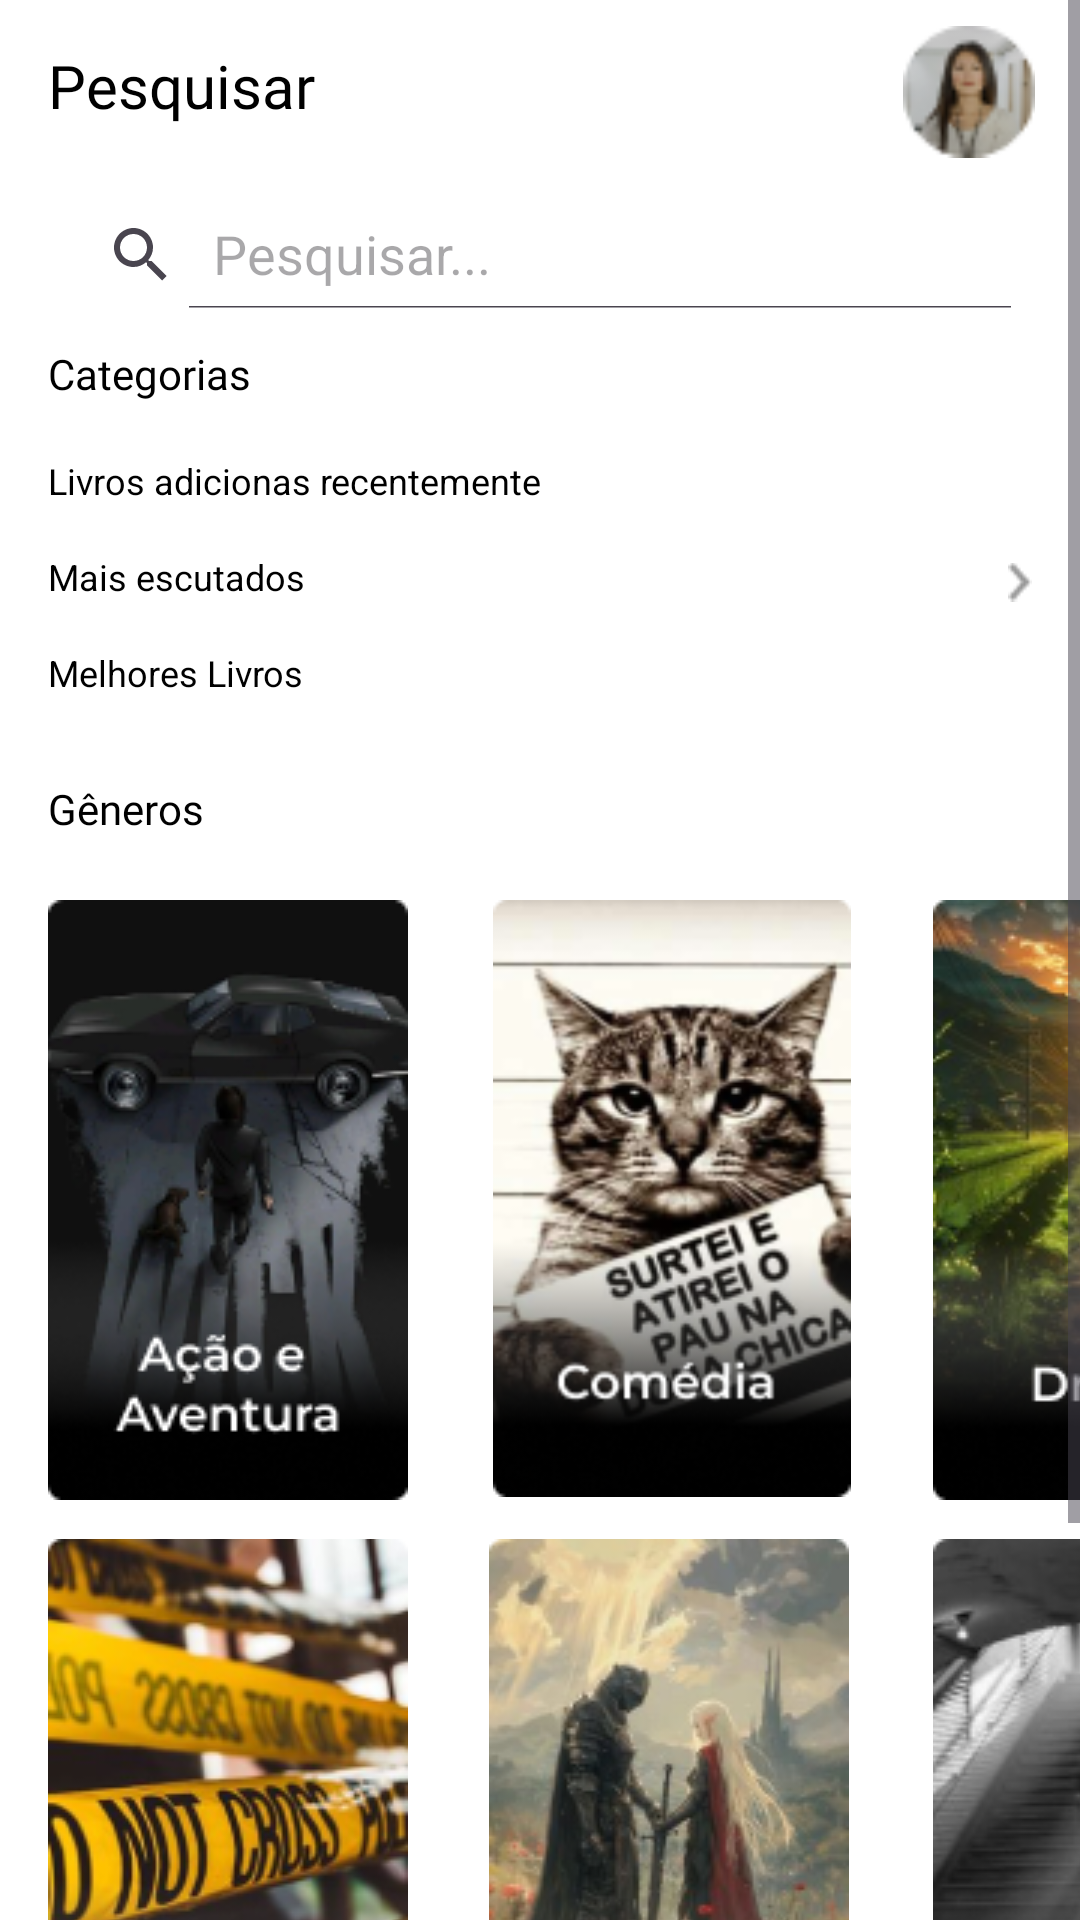

Where to tap for icons on this 1080 x 1920 app screen, as [x,y]:
arrow right: [1019,582]
foto usuario: [969,92]
